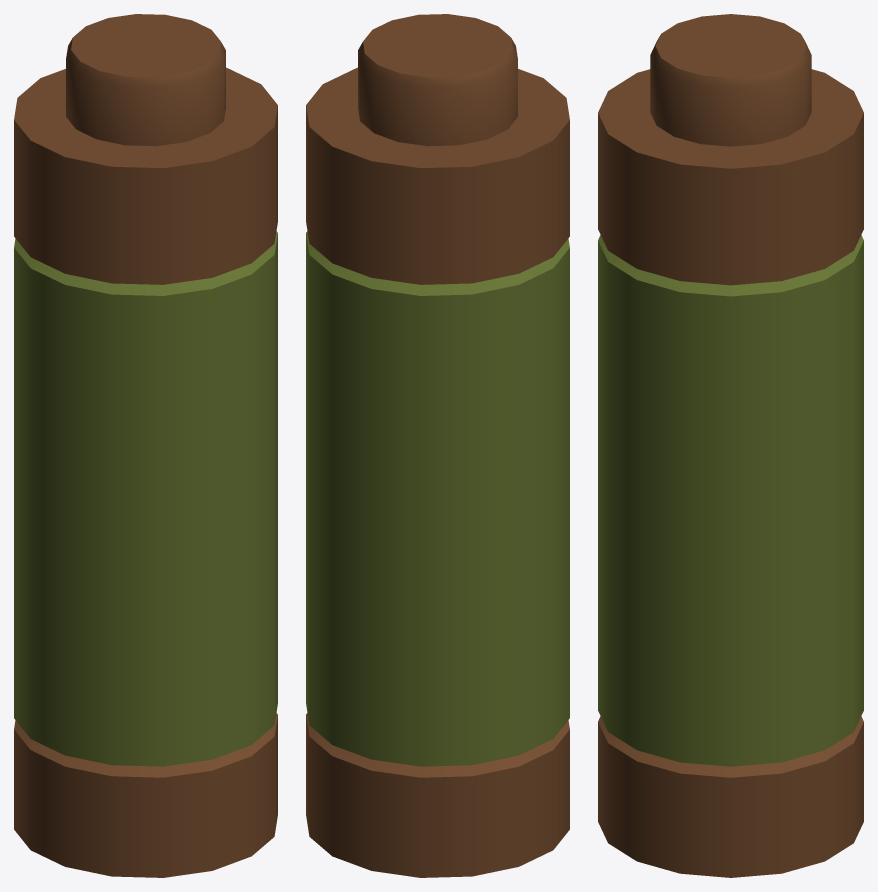
File: Battery.fbx
3 views of the same model, side by side, from view 1: azimuth 30°, elevation 25°; view 2: azimuth 150°, elevation 25°; view 3: azimuth 270°, elevation 25° (orthographic).
Parts seen in each view (by area): view 1: Barrety; view 2: Barrety; view 3: Barrety.
Boxes of the visible parts, bbox=[...] form: Barrety: bbox=[14, 14, 277, 877]; Barrety: bbox=[306, 14, 569, 877]; Barrety: bbox=[598, 14, 863, 877].
Bounding box in the file's own units: 38.17 × 123 × 38.17.
